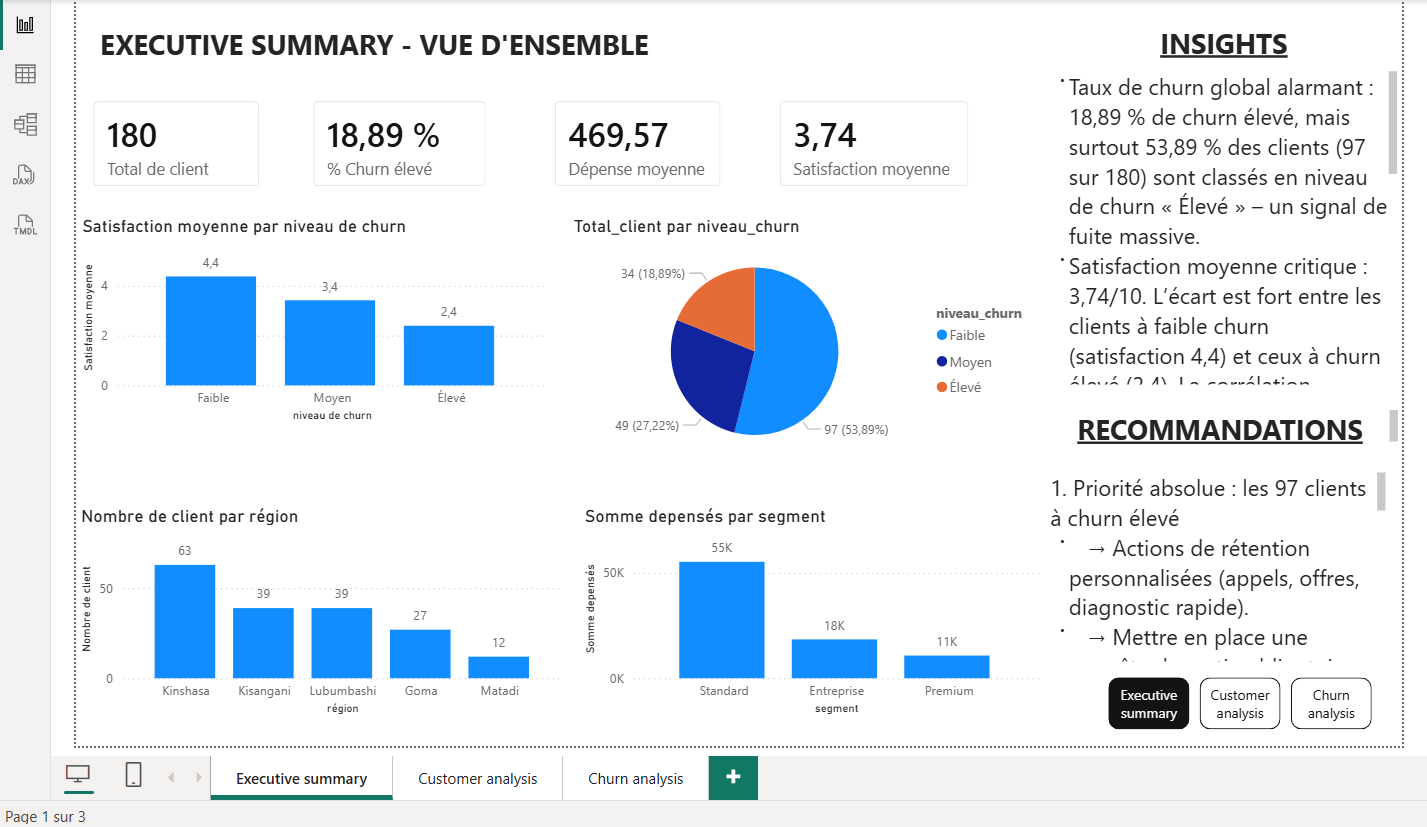

The page's visual inventory and layout, read from the dashboard file:
{"tool":"powerbi","page":{"name":"Executive summary","canvas":[1280,720],"ordinal":0},"visuals":[{"type":"cardVisual","fields":{"Data":["Clients.Total_client"]},"box":[0,81,194.9,116.6],"z":0},{"type":"textbox","box":[17.8,19.2,559.9,61.7],"z":1},{"type":"cardVisual","fields":{"Data":["Clients.Churn_eleve"]},"box":[212.7,81,200.3,116.6],"z":2},{"type":"cardVisual","fields":{"Data":["Clients.Depense_moyenne"]},"box":[444.6,81,194.9,116.6],"z":3},{"type":"cardVisual","fields":{"Data":["Clients.Satisfaction_moyenne"]},"box":[662.8,81,216.8,116.6],"z":4},{"type":"columnChart","fields":{"Category":["Clients.niveau_churn"],"Y":["Clients.Satisfaction_moyenne"]},"box":[1.4,207.2,458.3,204.5],"z":5},{"type":"pieChart","fields":{"Category":["Clients.niveau_churn"],"Y":["Clients.Total_client"]},"box":[474.8,207.2,459.7,244.3],"z":6},{"type":"columnChart","fields":{"Category":["Clients.région"],"Y":["Clients.Total_client"]},"box":[0,487.1,474.8,207.2],"z":7},{"type":"columnChart","fields":{"Category":["Clients.segment"],"Y":["Clients.Somme_depenses"]},"box":[485.8,487.1,448.7,207.2],"z":8},{"type":"textbox","box":[935,63.9,345,312.5],"z":9},{"type":"textbox","box":[934.5,17.8,345.8,46.7],"z":10},{"type":"textbox","box":[934.5,391.1,345.8,42.5],"z":11},{"type":"textbox","box":[935,451.2,334.2,191.8],"z":12},{"type":"pageNavigator","box":[996.5,653.9,254.6,50.7],"z":13}]}

Visuals, with their boxes on the page's 1280x720 design canvas (x1, y1, x2, y2). These are canvas units, not pixel positions in the 1427x827 screenshot, which may show the page scaled, cropped or inside an application window:
cardVisual - Clients.Total_client: box=[0, 81, 195, 198]
textbox: box=[18, 19, 578, 81]
cardVisual - Clients.Churn_eleve: box=[213, 81, 413, 198]
cardVisual - Clients.Depense_moyenne: box=[445, 81, 640, 198]
cardVisual - Clients.Satisfaction_moyenne: box=[663, 81, 880, 198]
columnChart - Clients.niveau_churn x Clients.Satisfaction_moyenne: box=[1, 207, 460, 412]
pieChart - Clients.niveau_churn x Clients.Total_client: box=[475, 207, 934, 452]
columnChart - Clients.région x Clients.Total_client: box=[0, 487, 475, 694]
columnChart - Clients.segment x Clients.Somme_depenses: box=[486, 487, 934, 694]
textbox: box=[935, 64, 1280, 376]
textbox: box=[934, 18, 1280, 64]
textbox: box=[934, 391, 1280, 434]
textbox: box=[935, 451, 1269, 643]
pageNavigator: box=[996, 654, 1251, 705]
